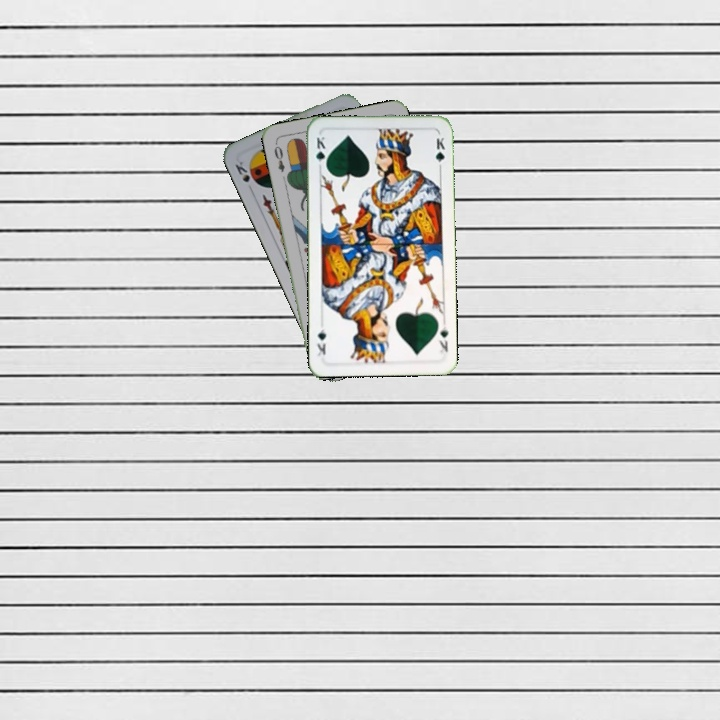EO: (270, 139, 287, 175)
GK: (312, 132, 329, 172), (434, 318, 451, 357)
SK: (231, 157, 256, 195)
